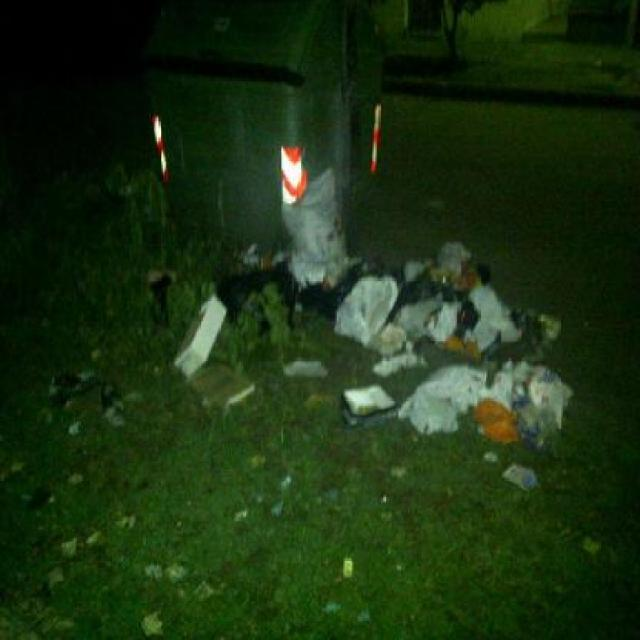garbage: (300, 223, 573, 454), (162, 257, 250, 391), (280, 166, 366, 294), (45, 356, 120, 445), (282, 340, 320, 388)
